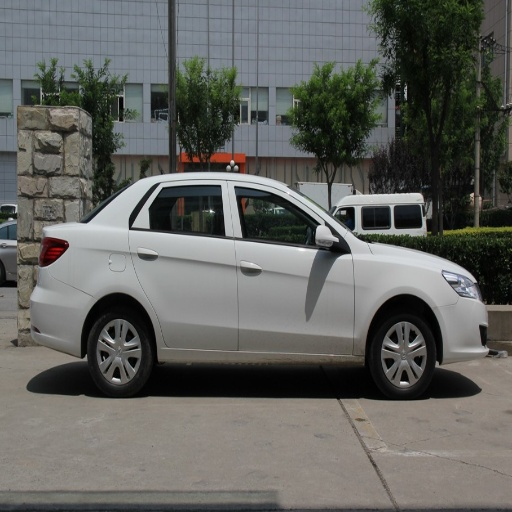back_right_door: (130, 178, 237, 350)
front_right_door: (230, 180, 353, 351)
